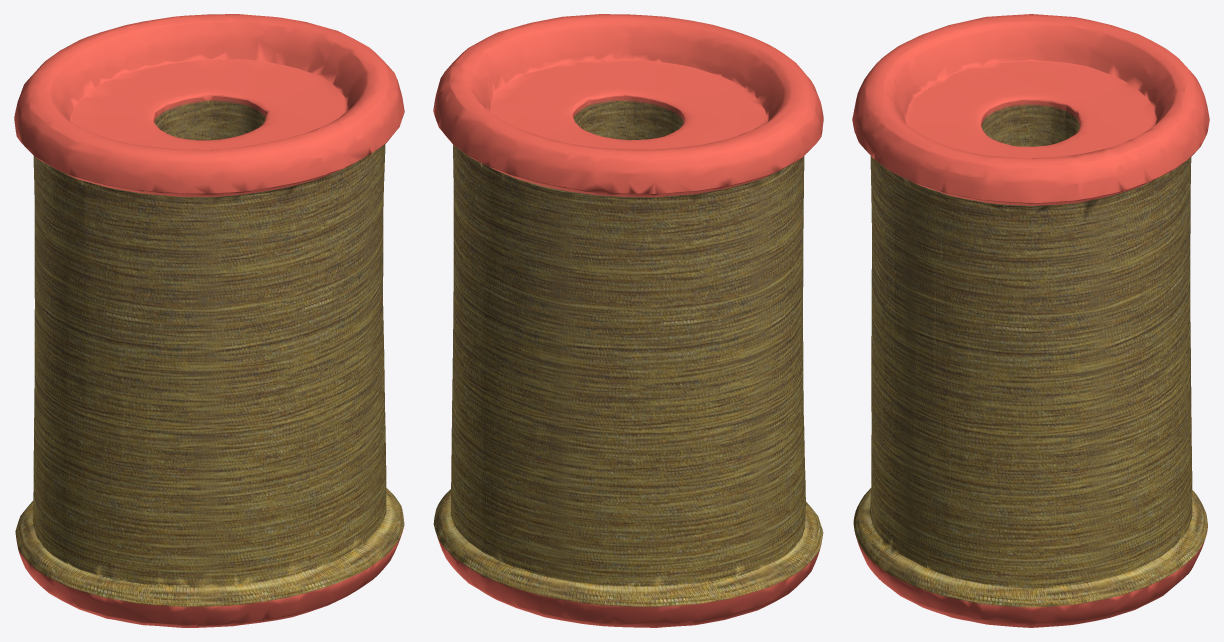
Rendered from silk-fast-quality.glb.
The picture shows the model from 3 angles, left to right: view 1: azimuth 30°, elevation 25°; view 2: azimuth 150°, elevation 25°; view 3: azimuth 270°, elevation 25°; orthographic projection. The views are drawn at different scales.
Visible parts, largest first — view 1: world; view 2: world; view 3: world.
Part boxes in pixels (<box>): world: <box>14,14,404,627</box>; world: <box>433,14,823,627</box>; world: <box>852,14,1209,627</box>.
Size of the model in its own units: 0.7686 by 1 by 0.6985.
2 materials, 1 textured.
